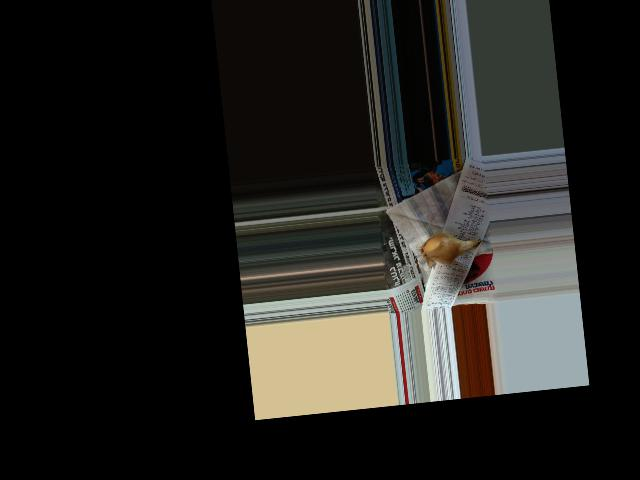onion: (421, 229, 467, 264)
